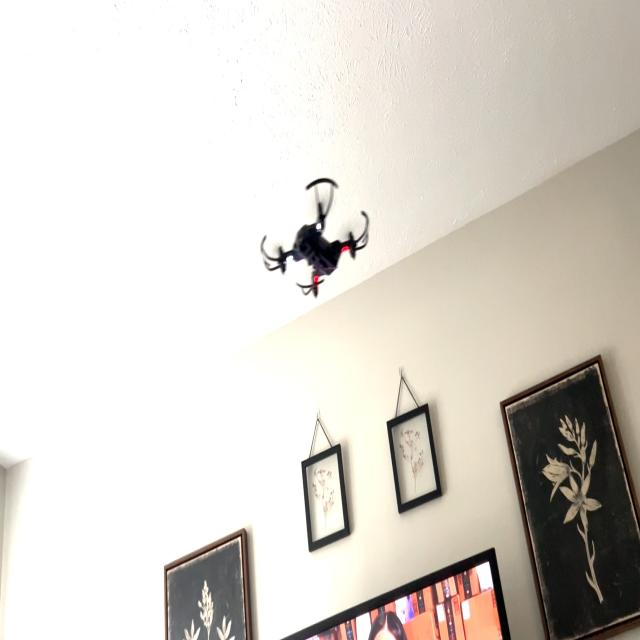drone: (248, 162, 378, 310)
